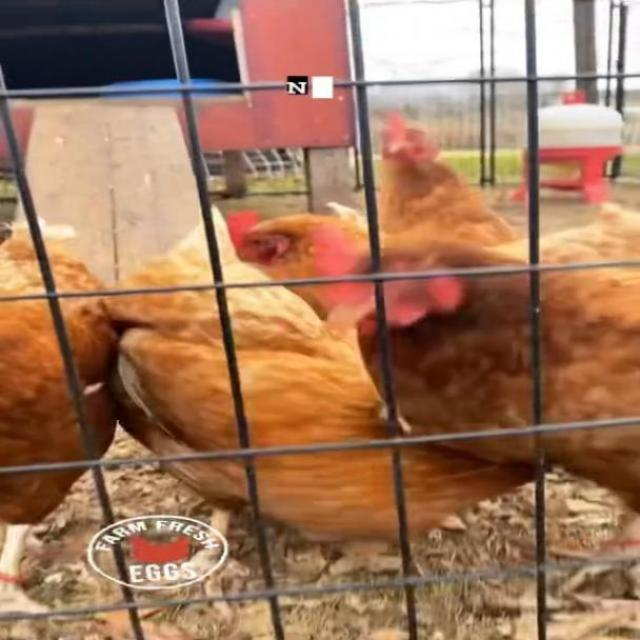Chicken: (102, 207, 554, 589), (299, 229, 640, 590), (0, 218, 124, 614), (366, 106, 526, 252), (223, 209, 375, 315)
